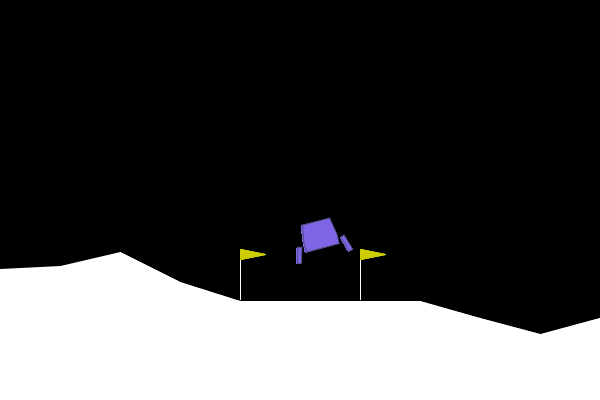lander: (286, 212, 354, 266)
